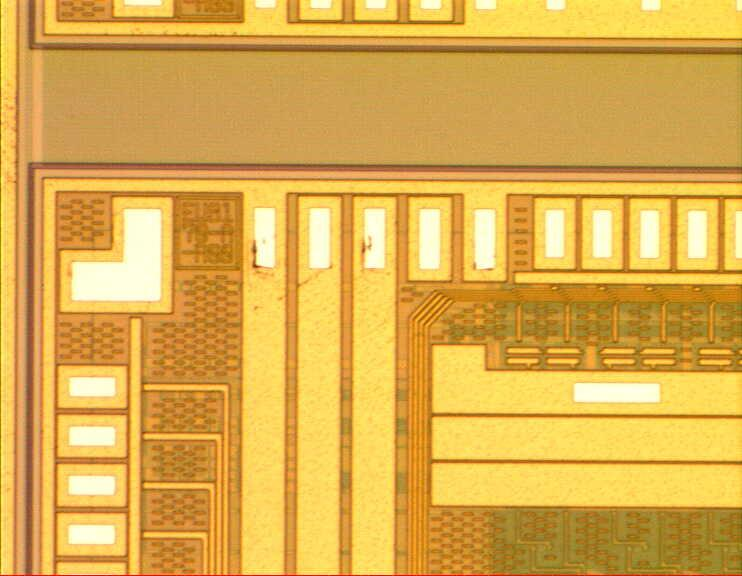SCRATCH: (236, 230, 505, 347)
